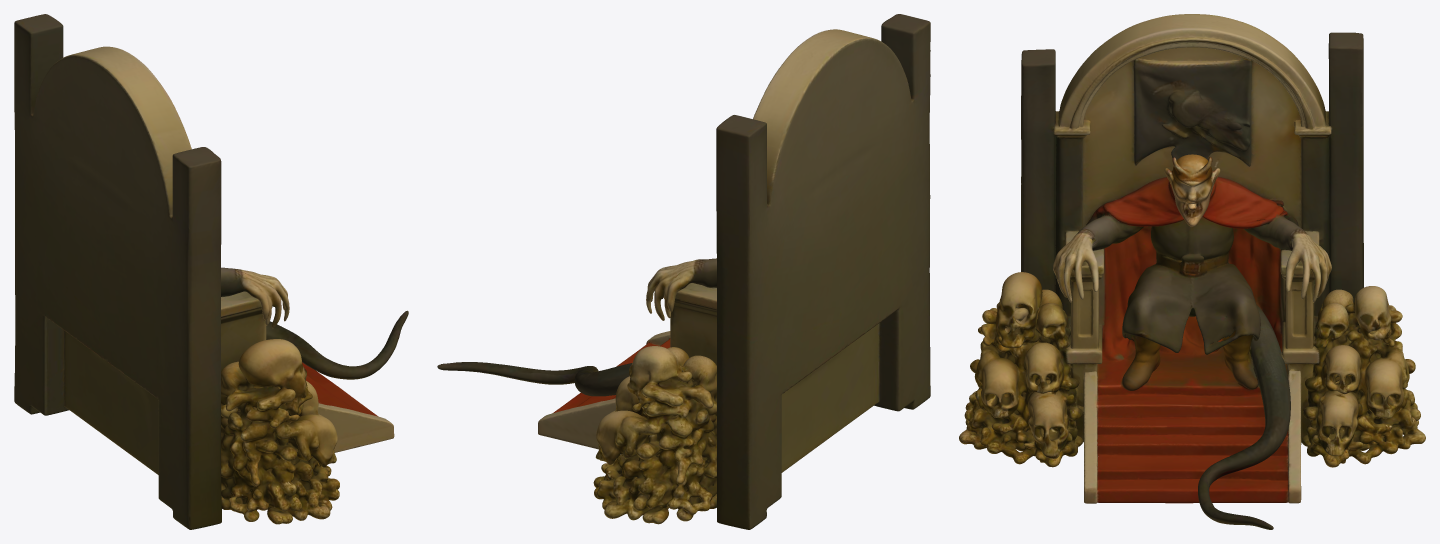
3 renders of one model, left to right at view 1: azimuth 30°, elevation 25°; view 2: azimuth 150°, elevation 25°; view 3: azimuth 270°, elevation 25°, orthographic. The views are drawn at different scales.
Parts seen in each view (by area): view 1: tripo_node_1d643204-1297-44ec-8d5e-c49fc6371572; view 2: tripo_node_1d643204-1297-44ec-8d5e-c49fc6371572; view 3: tripo_node_1d643204-1297-44ec-8d5e-c49fc6371572.
Part boxes in pixels (left/top/right/bottom): tripo_node_1d643204-1297-44ec-8d5e-c49fc6371572: left=14, top=14, right=408, bottom=529; tripo_node_1d643204-1297-44ec-8d5e-c49fc6371572: left=437, top=14, right=930, bottom=529; tripo_node_1d643204-1297-44ec-8d5e-c49fc6371572: left=959, top=14, right=1425, bottom=529.
Bounding box in the file's own units: 0.8359 × 0.9228 × 1.
Materials: 1 (1 with a texture image).
